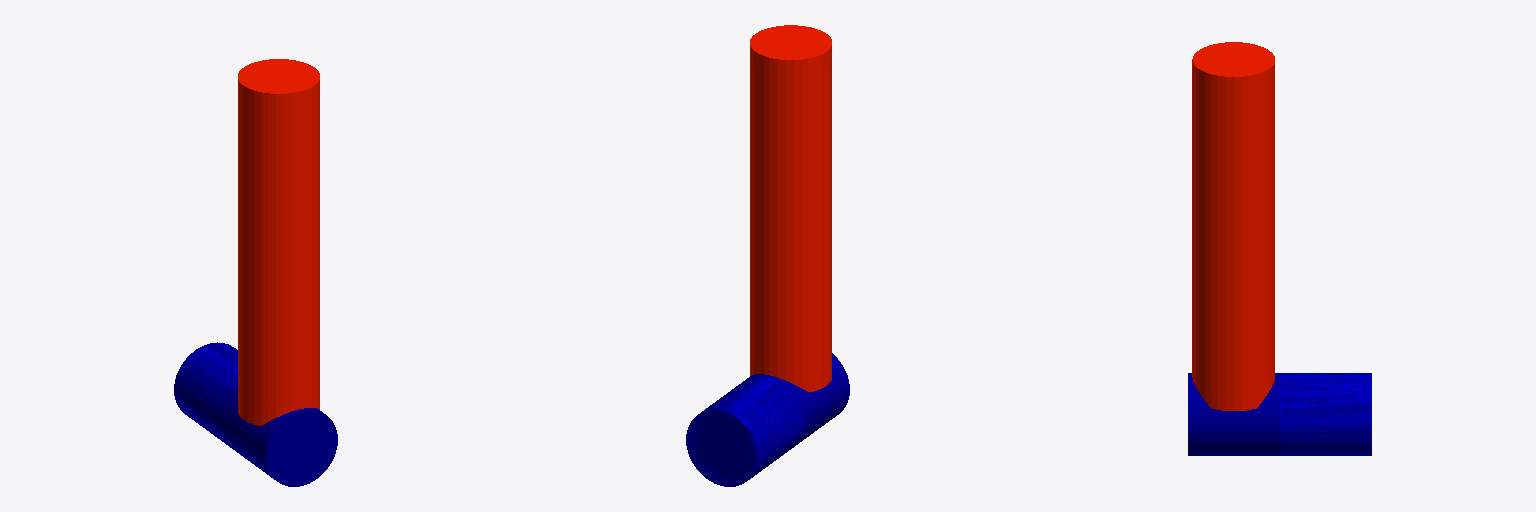
File: arm.obj
3 renders of one model, left to right at view 1: azimuth 30°, elevation 25°; view 2: azimuth 150°, elevation 25°; view 3: azimuth 270°, elevation 25°, orthographic.
Parts seen in each view (by area): view 1: Cylinder.001_Cylinder.002, Cylinder.002_Cylinder.003, Cylinder; view 2: Cylinder.001_Cylinder.002, Cylinder.002_Cylinder.003, Cylinder; view 3: Cylinder.001_Cylinder.002, Cylinder.002_Cylinder.003, Cylinder.
Boxes of the visible parts, x1,y1,x2,y2 form: Cylinder.001_Cylinder.002: [238, 59, 319, 425]; Cylinder.002_Cylinder.003: [174, 343, 337, 486]; Cylinder: [174, 342, 237, 446]; Cylinder.001_Cylinder.002: [750, 25, 831, 392]; Cylinder.002_Cylinder.003: [688, 353, 849, 485]; Cylinder: [686, 376, 803, 486]; Cylinder.001_Cylinder.002: [1192, 42, 1274, 410]; Cylinder.002_Cylinder.003: [1188, 373, 1371, 455]; Cylinder: [1280, 373, 1371, 455].
Bounding box in the file's own units: 180 × 940 × 400.